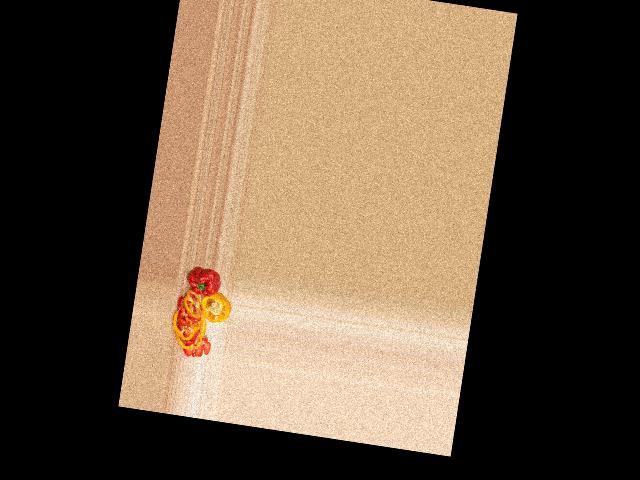bell_pepper: (198, 291, 234, 326)
